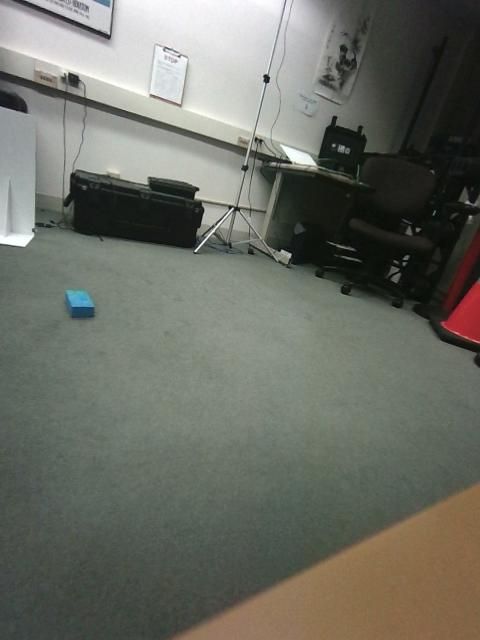block: (280, 433, 371, 523)
